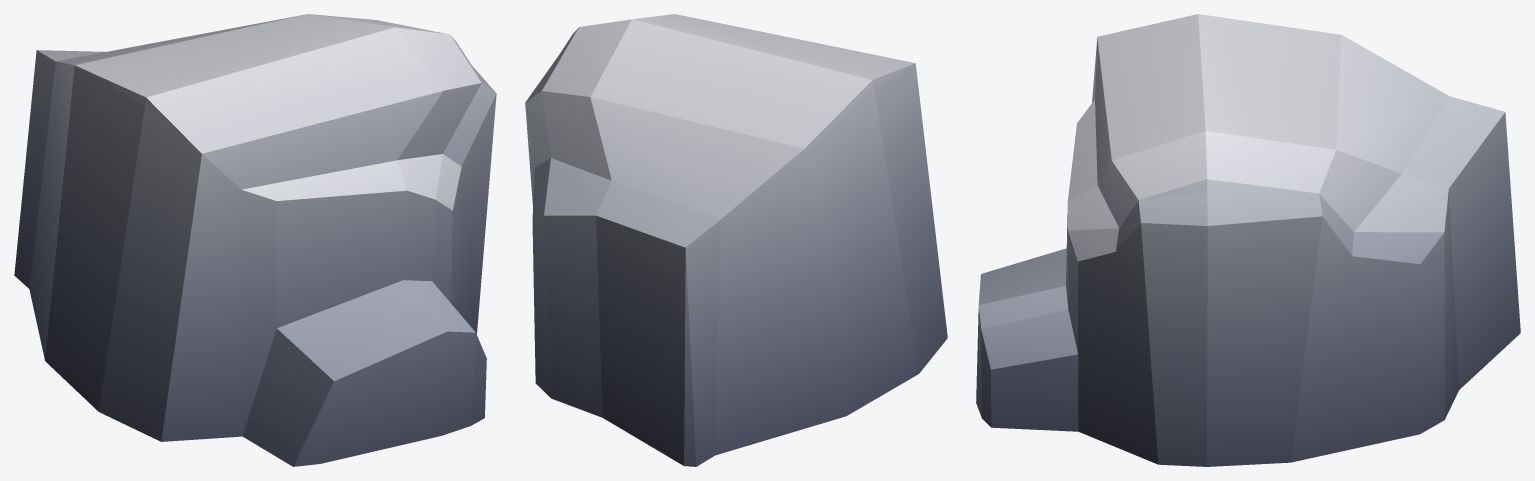
File: Rock_6.fbx
3 renders of one model, left to right at view 1: azimuth 30°, elevation 25°; view 2: azimuth 150°, elevation 25°; view 3: azimuth 270°, elevation 25°, orthographic. The views are drawn at different scales.
Visible parts, largest first — view 1: Rock_6; view 2: Rock_6; view 3: Rock_6.
Part boxes in pixels (x1,y1,x2,y2): Rock_6: (14,14,496,466); Rock_6: (525,14,947,466); Rock_6: (976,14,1520,466).
Size of the model in its own units: 0.912 by 0.7078 by 1.14.
